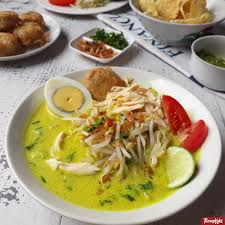soto: (13, 60, 215, 219)
